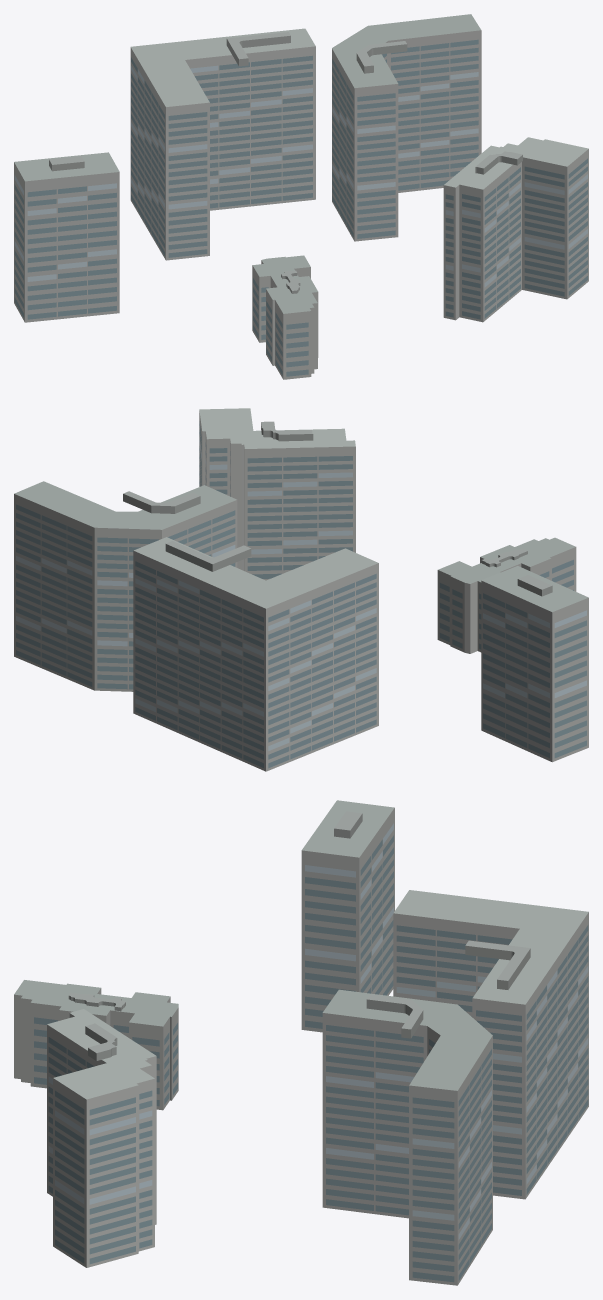
File: apt-a13576201.glb
3 renders of one model, top to bottom at view 1: azimuth 30°, elevation 25°; view 2: azimuth 150°, elevation 25°; view 3: azimuth 270°, elevation 25°, orthographic. The views are drawn at different scales.
Visible parts, largest first — view 1: apt-a13576201; view 2: apt-a13576201; view 3: apt-a13576201.
Boxes of the visible parts, box(x1,y1,x2,y2) form: apt-a13576201: box(14, 14, 588, 379); apt-a13576201: box(14, 408, 588, 771); apt-a13576201: box(14, 800, 588, 1285).
Size of the model in its own units: 167 by 52 by 133.
